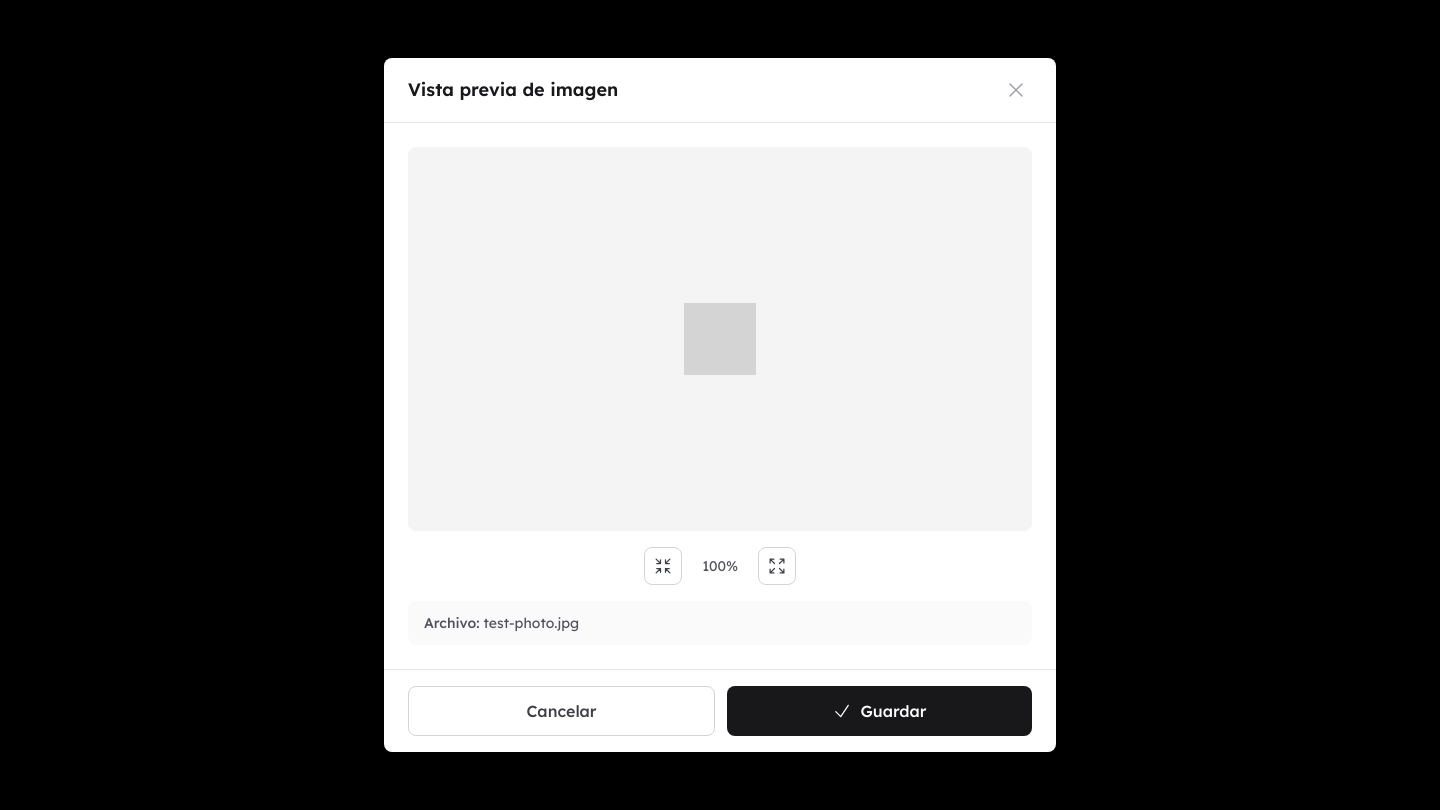
Scenario: ImagePreview › allows zooming out
Click the button named "alejar" at (663, 566), box [644,547,682,585]
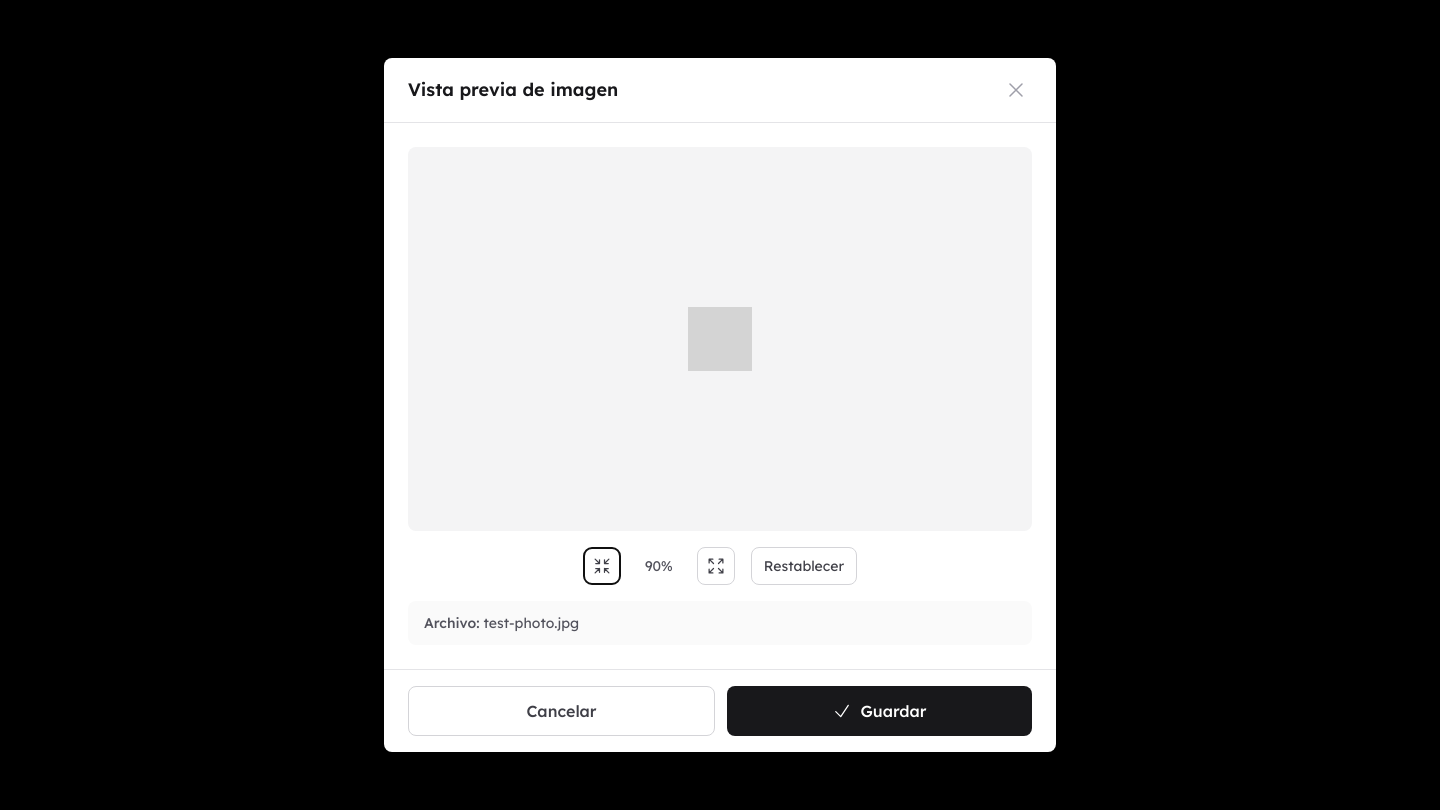
Check: the text "90%" is shown, box [645,557,673,575]
